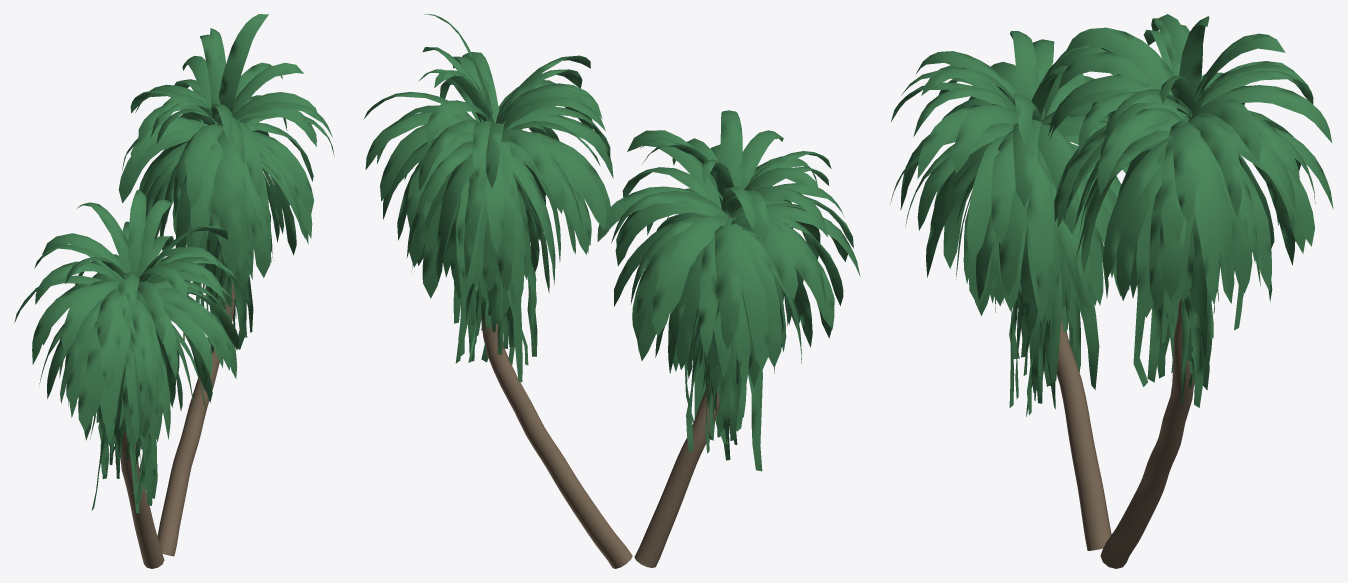
The model's file is PalmTree08.fbx.
3 views of the same model, side by side, from view 1: azimuth 30°, elevation 25°; view 2: azimuth 150°, elevation 25°; view 3: azimuth 270°, elevation 25° (orthographic). The views are drawn at different scales.
Parts seen in each view (by area): view 1: PalmTree08; view 2: PalmTree08; view 3: PalmTree08.
Part boxes in pixels (x1,y1,x2,y2): PalmTree08: (14, 14, 334, 568); PalmTree08: (363, 14, 860, 568); PalmTree08: (890, 14, 1333, 568).
Size of the model in its own units: 3.6 by 4.93 by 3.15.
